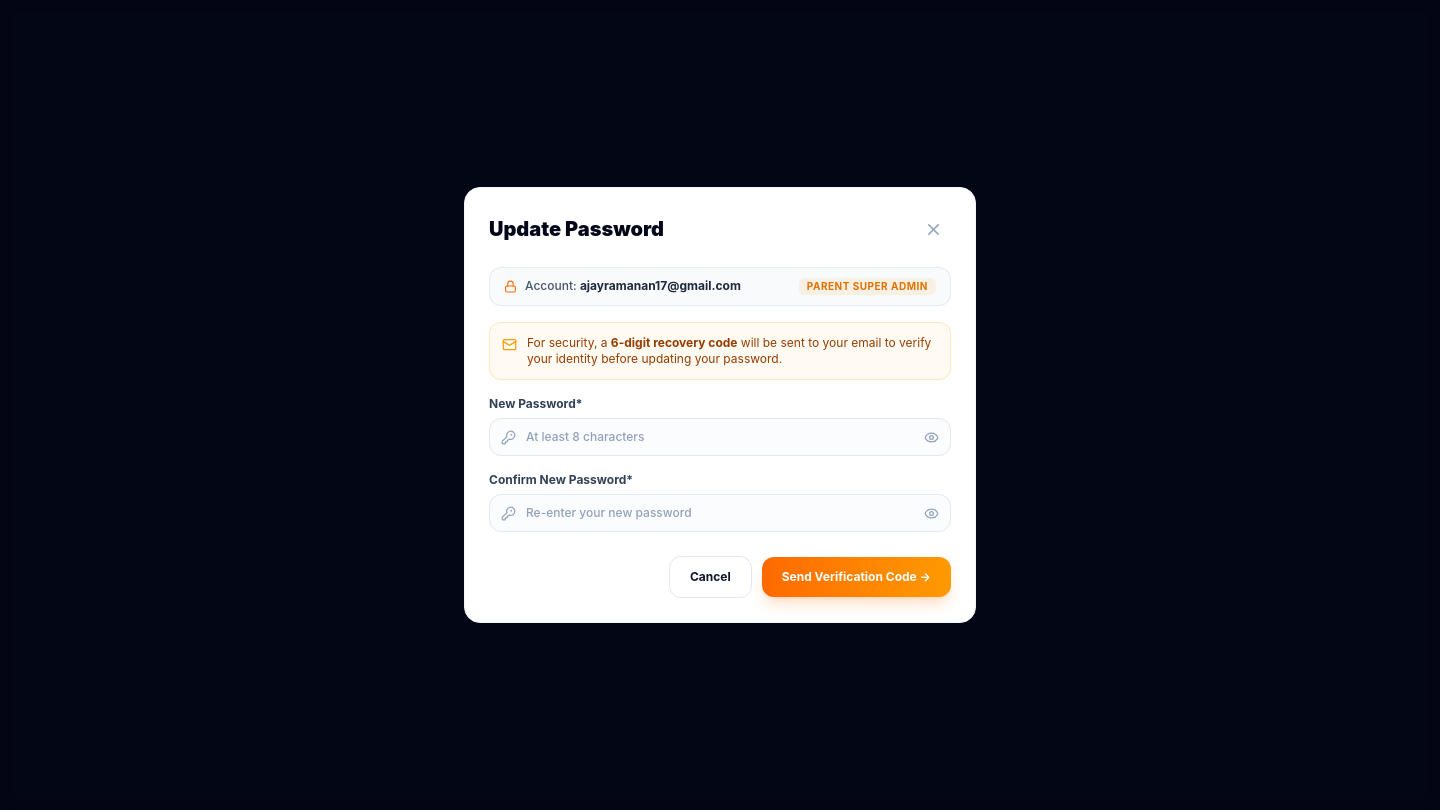
Test: UpdatePasswordModal Component › displays API error when sending recovery code fails in step 1
Step 1. Type "SuperSecret2026!" into the password field with test id "new-password-input" → coordinates (720, 437), box x1=489 y1=418 x2=951 y2=456
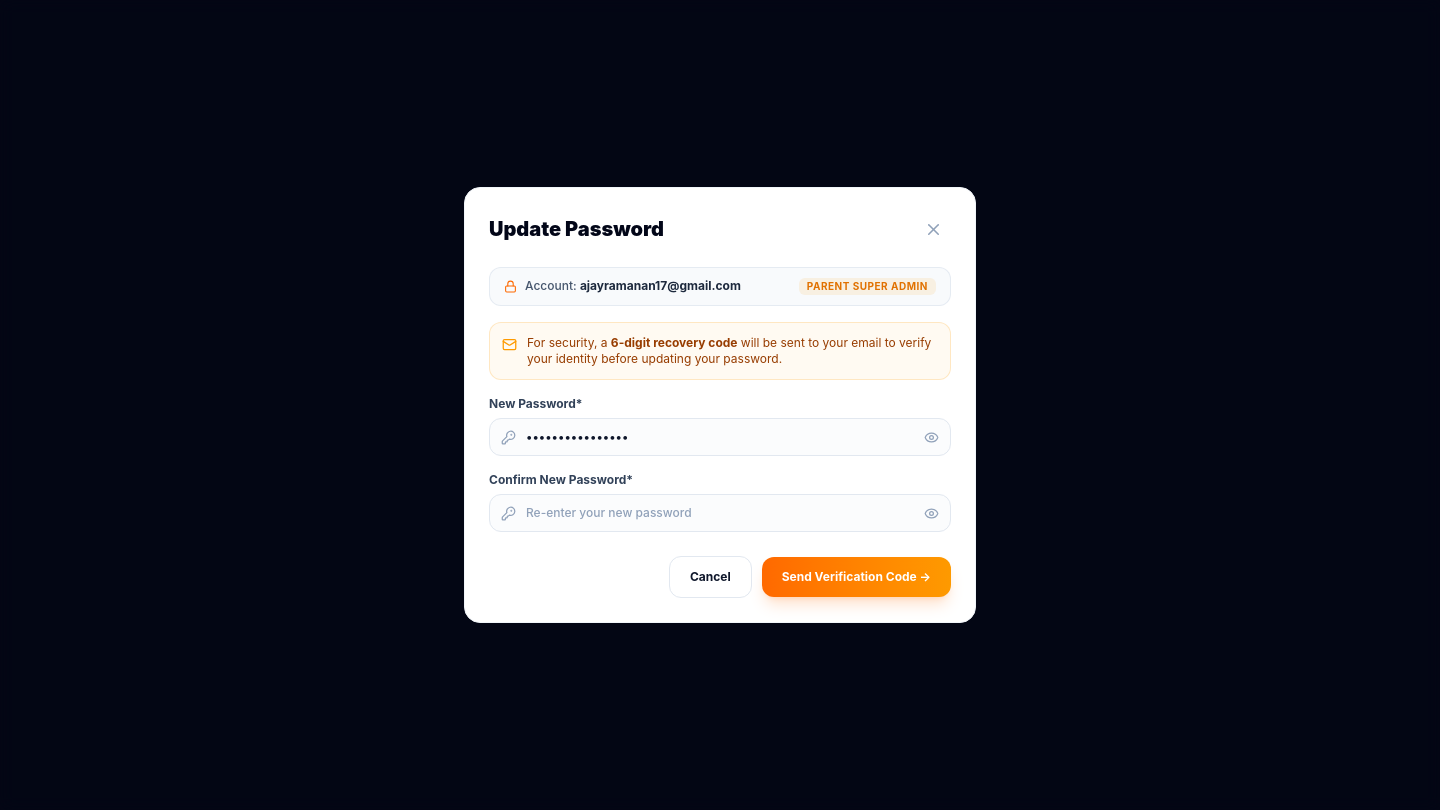
Step 2. Type "SuperSecret2026!" into the password field with test id "confirm-password-input" → coordinates (720, 513), box x1=489 y1=494 x2=951 y2=532
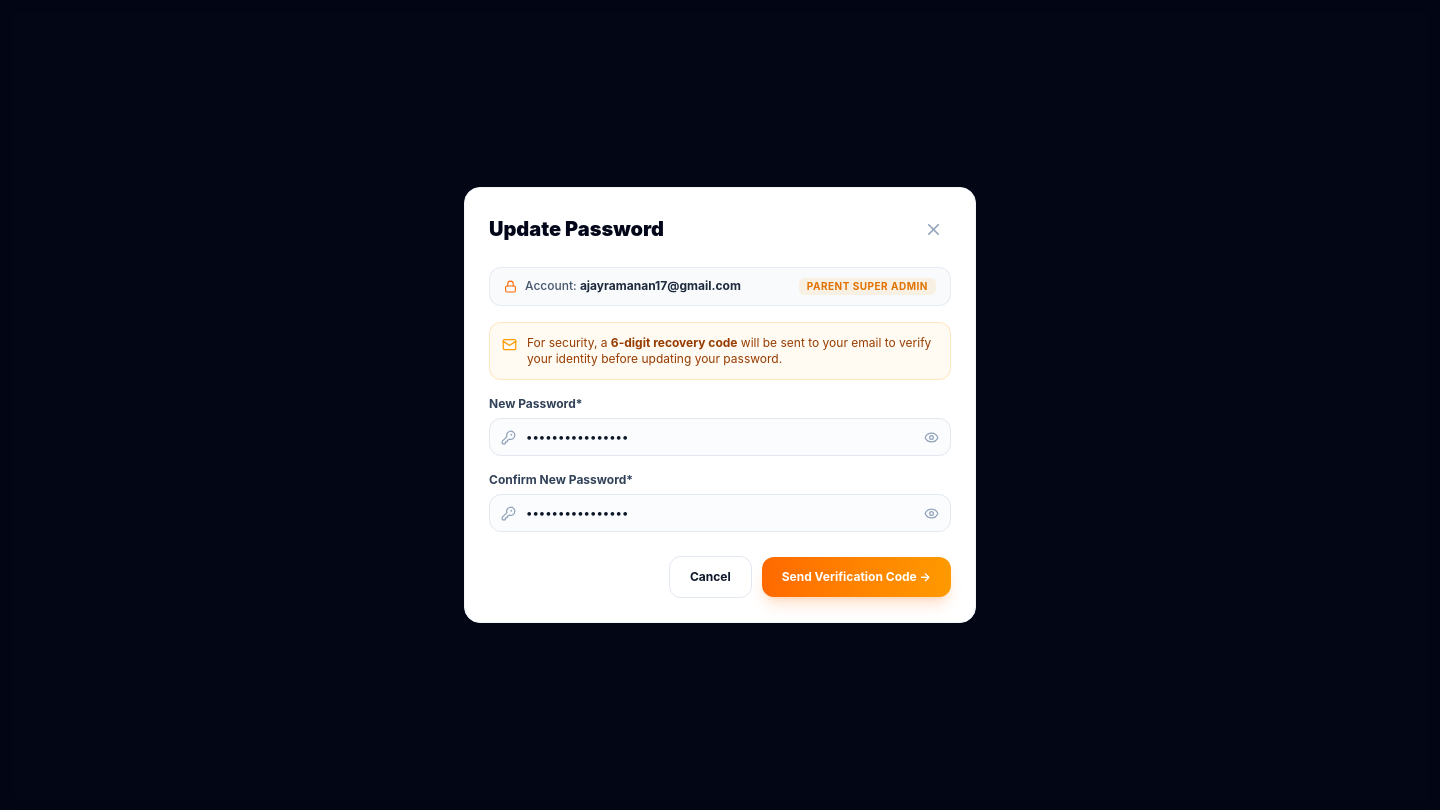
Step 3. Click the button with test id "submit-update-password-btn" → coordinates (856, 577), box x1=762 y1=557 x2=951 y2=597
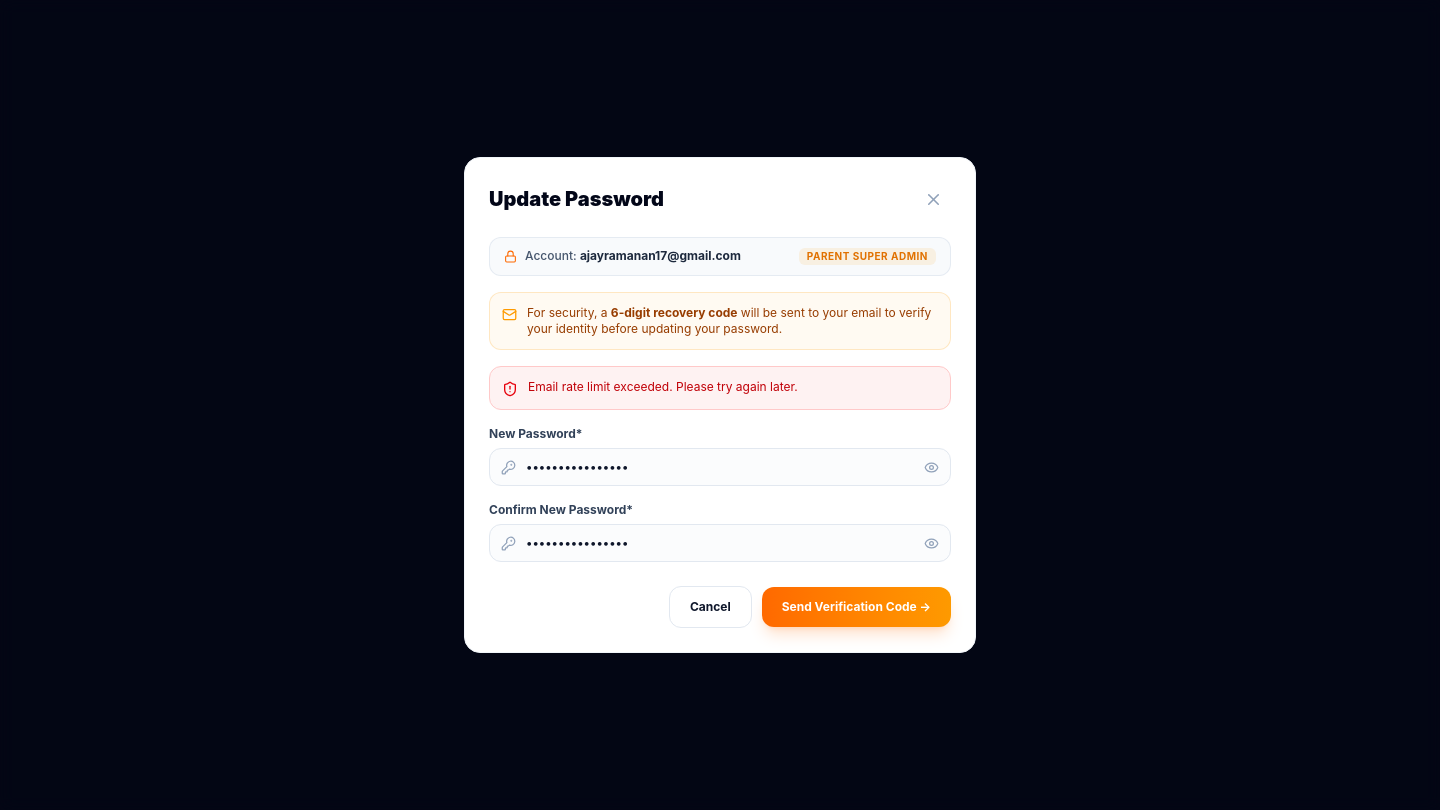
Result: the element with test id "update-password-error" reads "Email rate limit exceeded. Please try again later." at x1=528 y1=379 x2=798 y2=394
